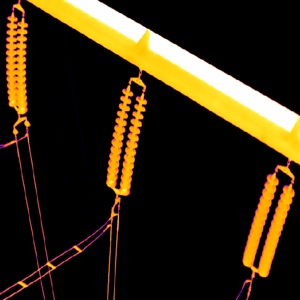insulator: (241, 172, 298, 277), (102, 83, 147, 195), (3, 11, 27, 115)
